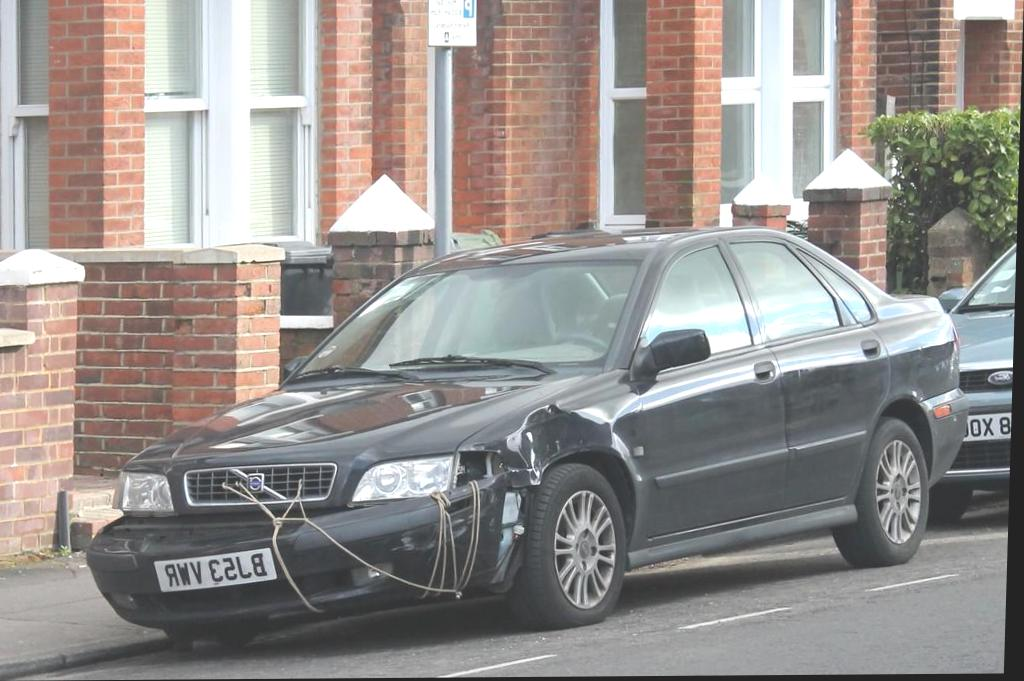License_Plate: (155, 548, 273, 590), (963, 410, 1012, 441)
